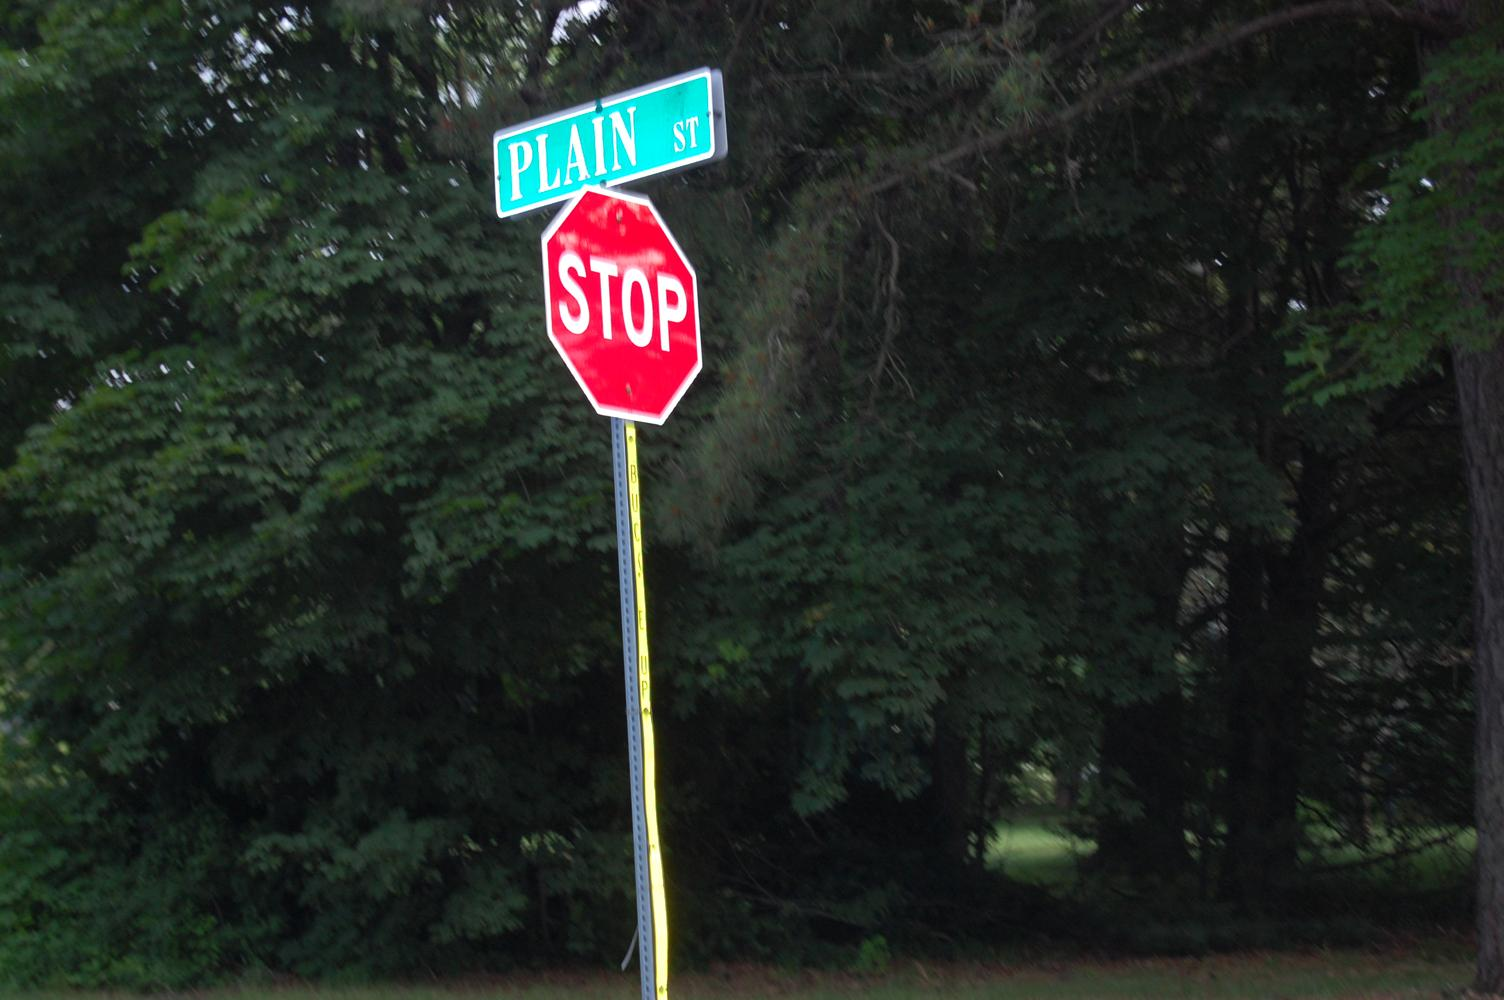stop: (531, 192, 708, 429)
